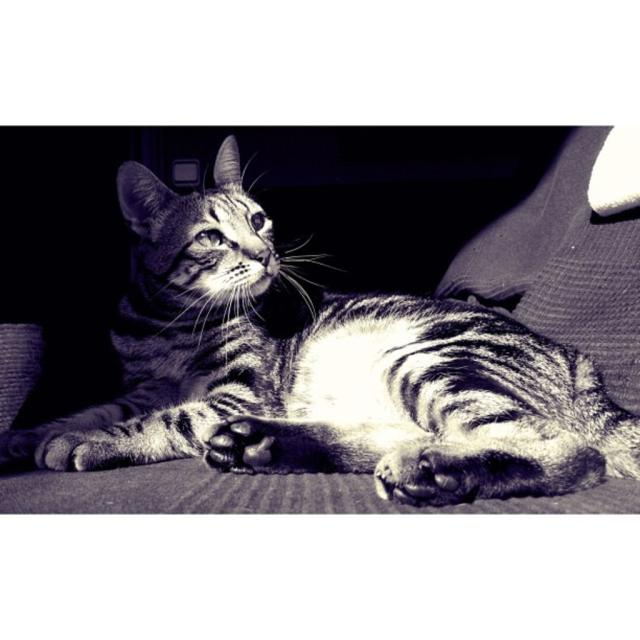Cat: (1, 132, 638, 510)
